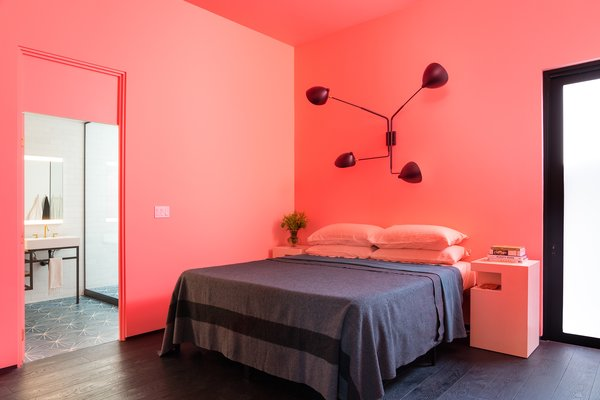bed: (178, 252, 474, 399)
night stand: (470, 256, 540, 360)
